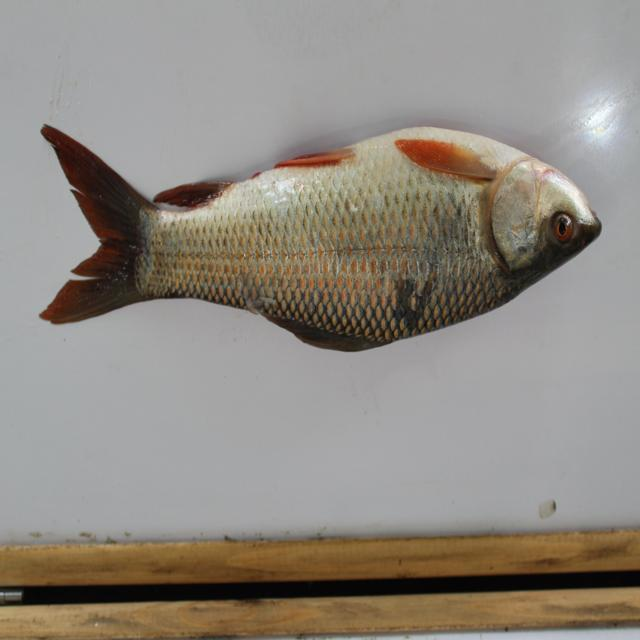Rohu: (35, 90, 600, 357)
